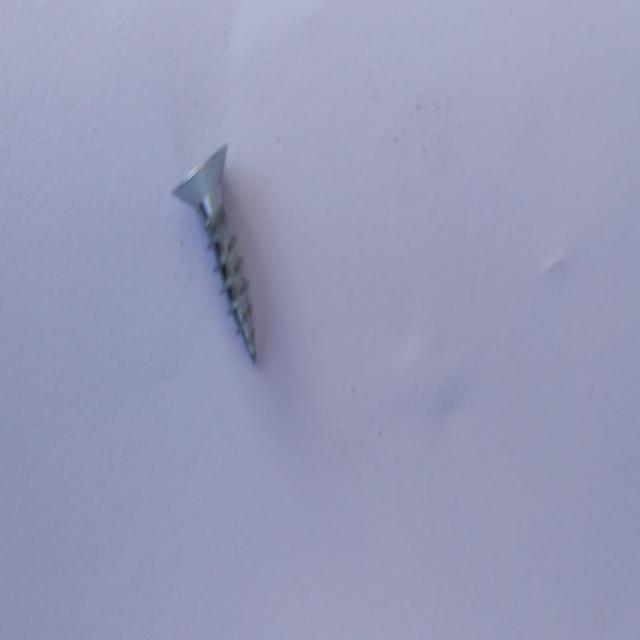Screw: (173, 143, 256, 361)
